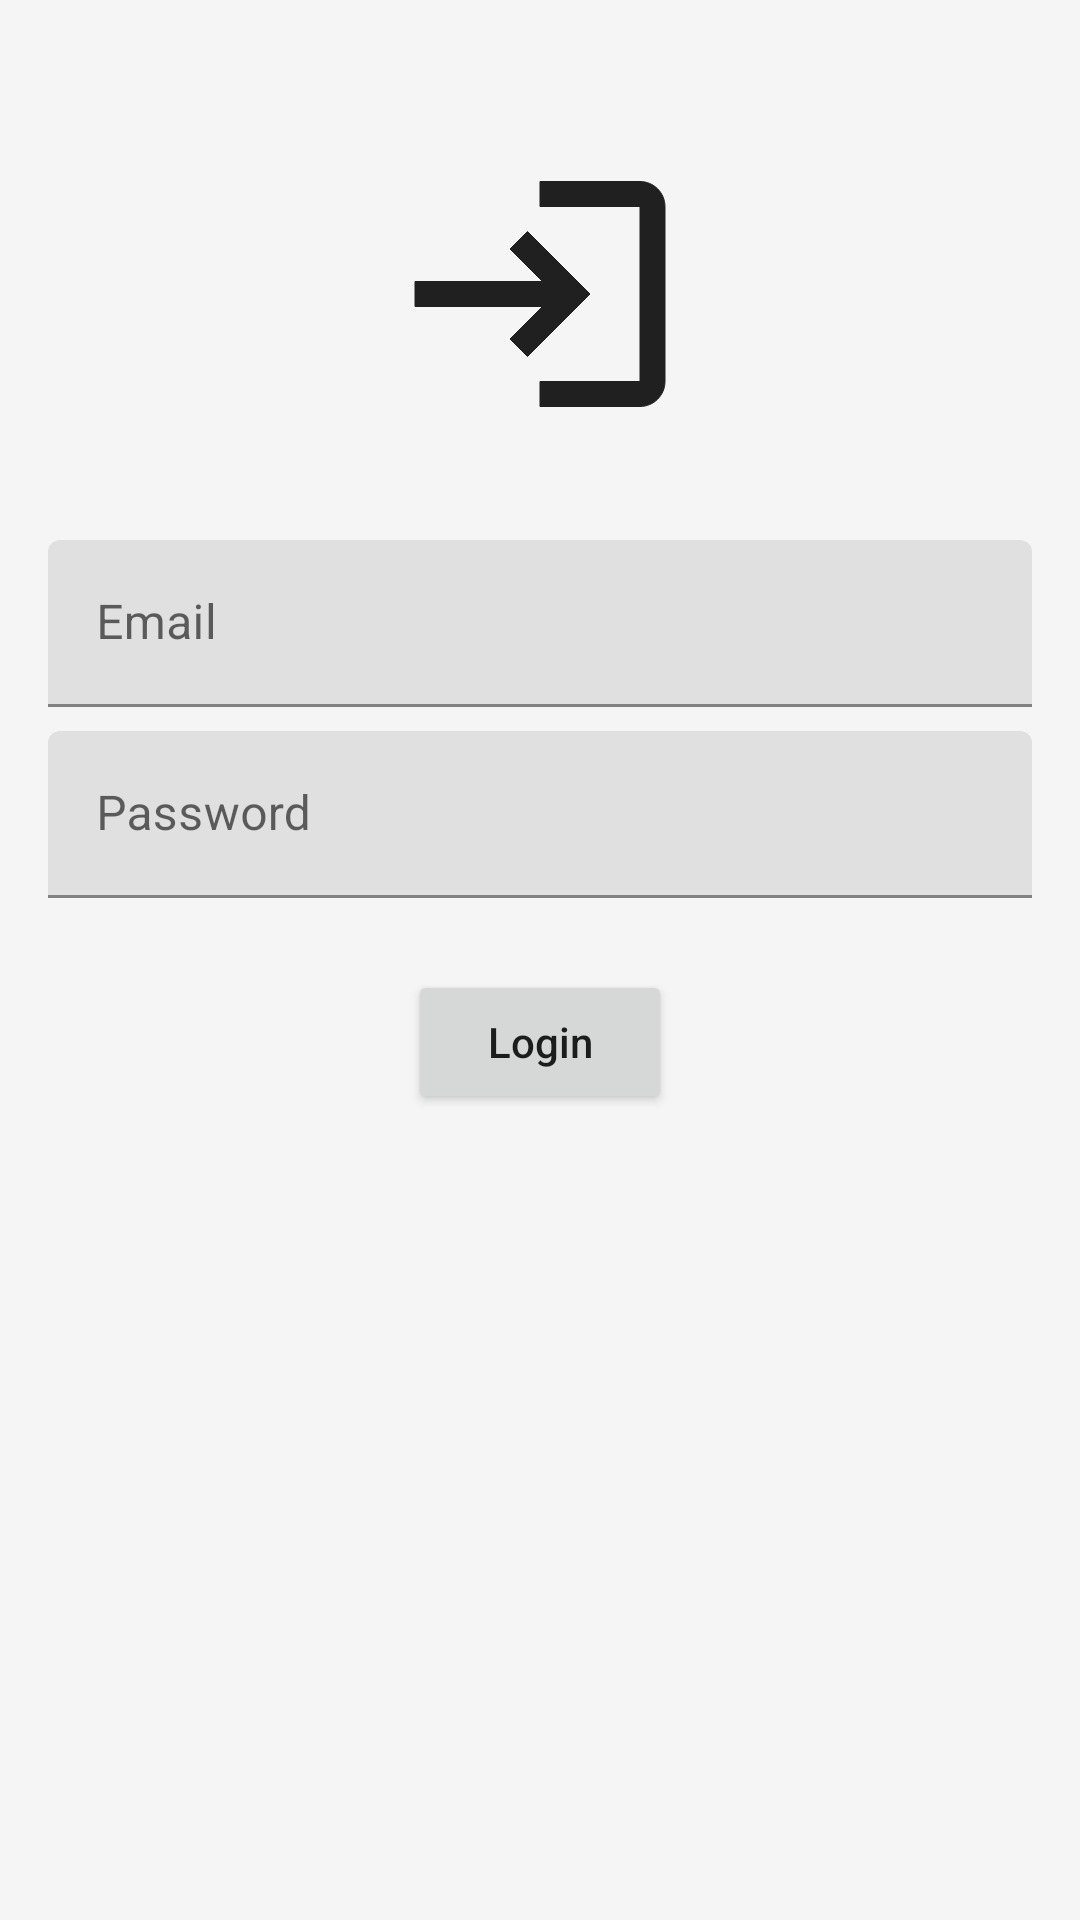

Screen size 1080w x 1920h. Icon name, then its box in pixels as (x1, y1, x2, y2):
Login Image: (414, 181, 666, 407)
